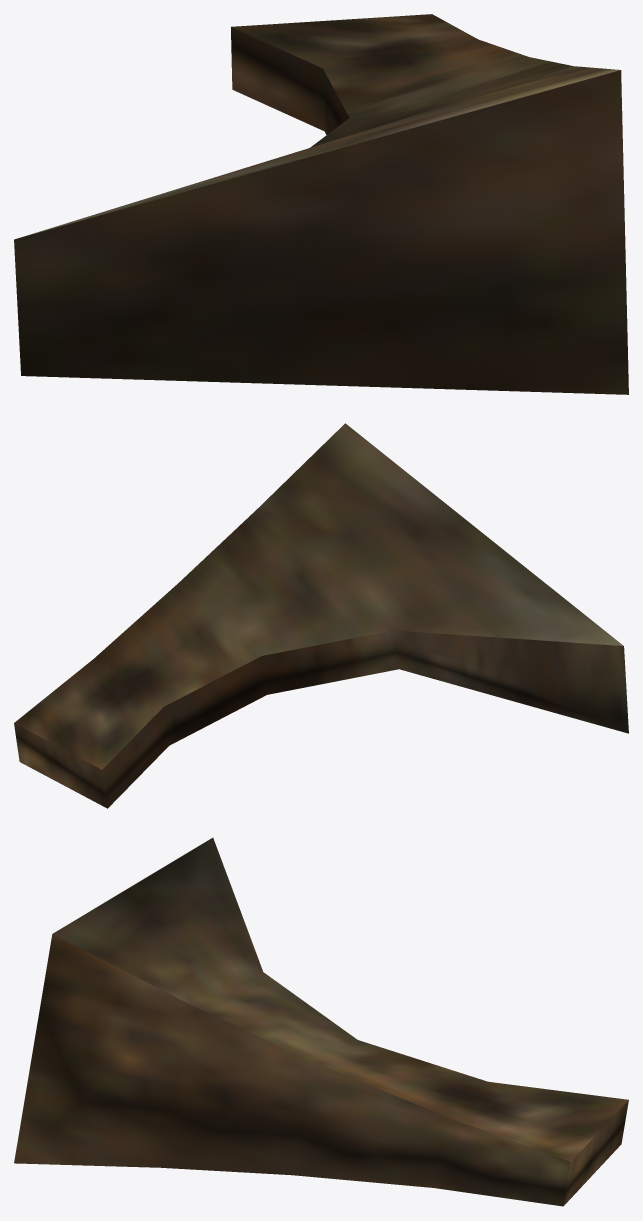
3 views of the same model, one above another, from view 1: azimuth 30°, elevation 25°; view 2: azimuth 150°, elevation 25°; view 3: azimuth 270°, elevation 25° (orthographic). The views are drawn at different scales.
Visible parts, largest first — view 1: wj051; view 2: wj051; view 3: wj051.
Boxes of the visible parts, bbox=[...] form: wj051: bbox=[14, 14, 628, 394]; wj051: bbox=[14, 423, 628, 808]; wj051: bbox=[14, 837, 628, 1206].
Size of the model in its own units: 282 by 126 by 298.
